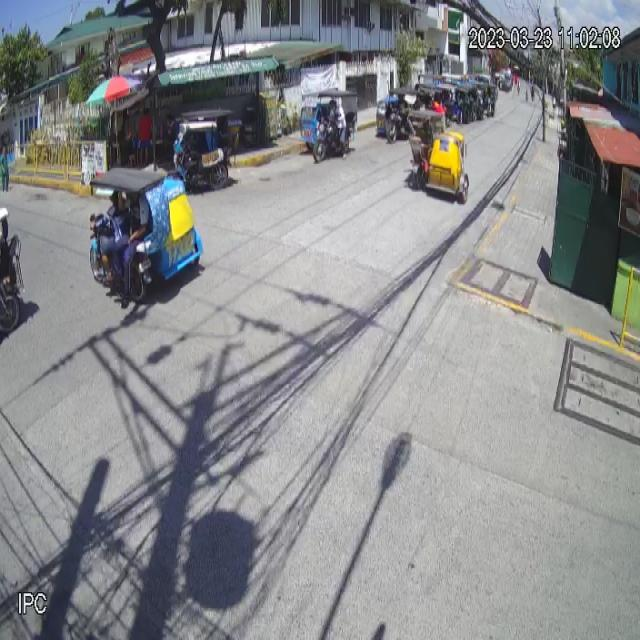Tricycle: (83, 163, 204, 311), (405, 109, 471, 208)
